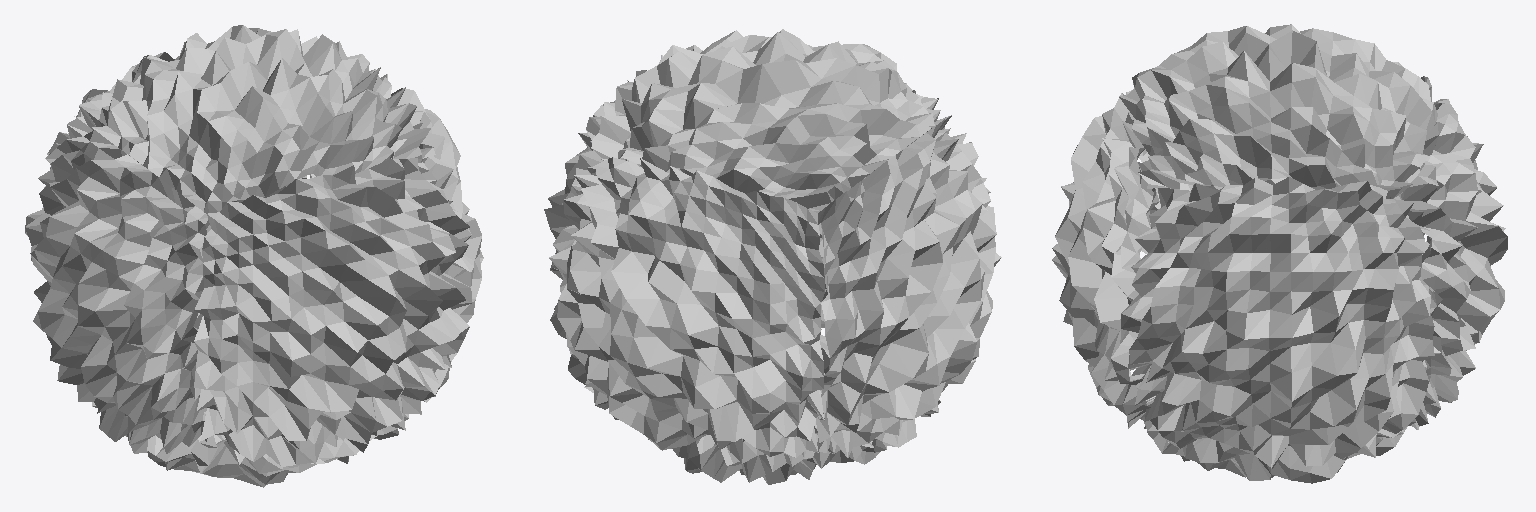
Rendered from test_elevation.obj.
3 renders of one model, left to right at view 1: azimuth 30°, elevation 25°; view 2: azimuth 150°, elevation 25°; view 3: azimuth 270°, elevation 25°, orthographic.
Bounding box in the file's own units: 2.13 × 2.18 × 2.15.